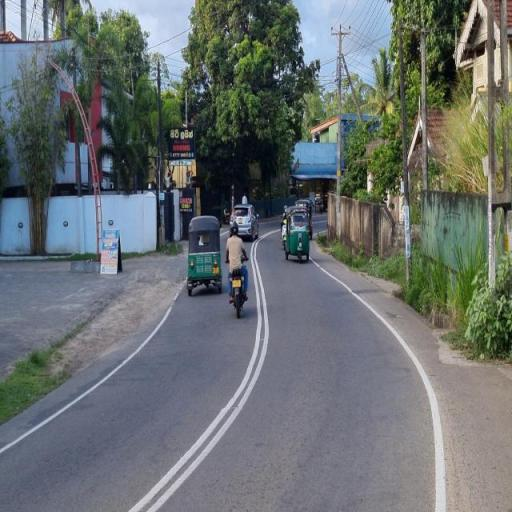double_white_line: (126, 228, 272, 512)
